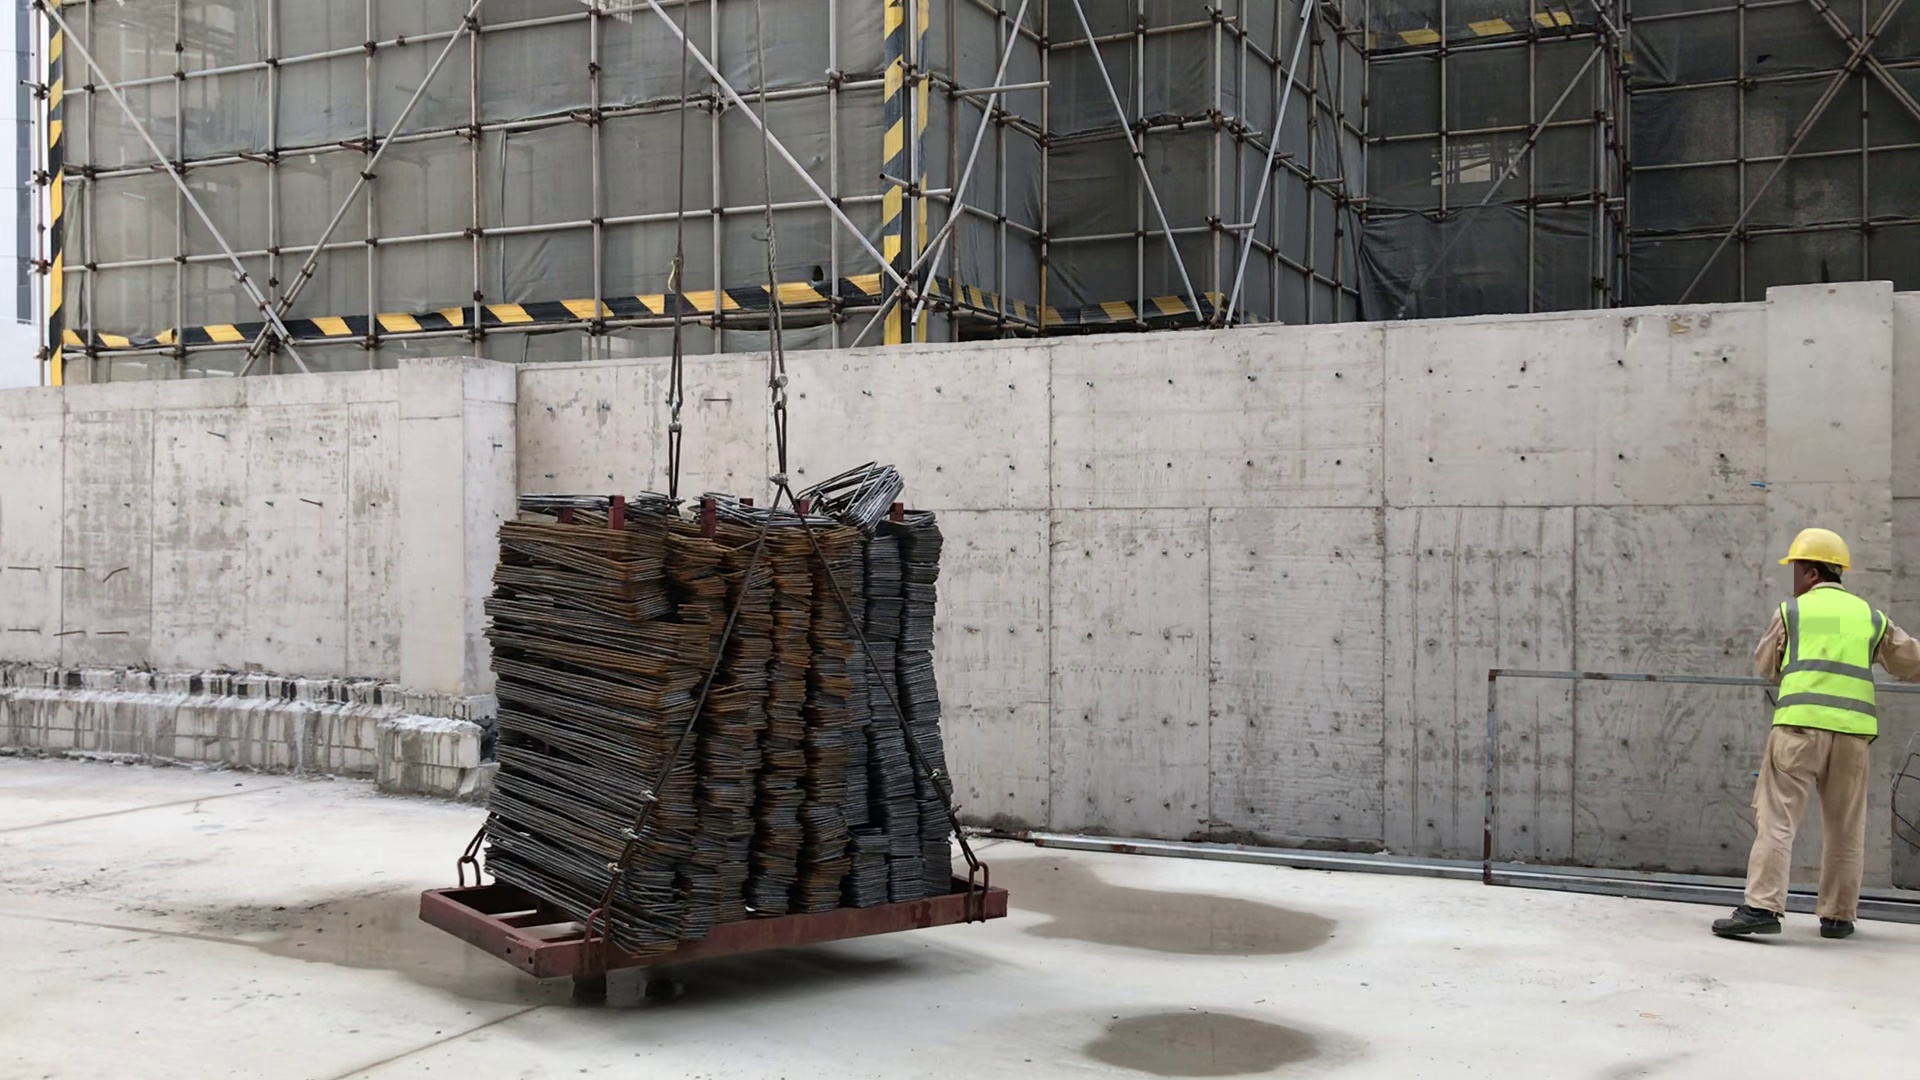helmet: (1782, 525, 1867, 587)
person: (1734, 504, 1886, 970)
vest: (1777, 603, 1891, 747)
